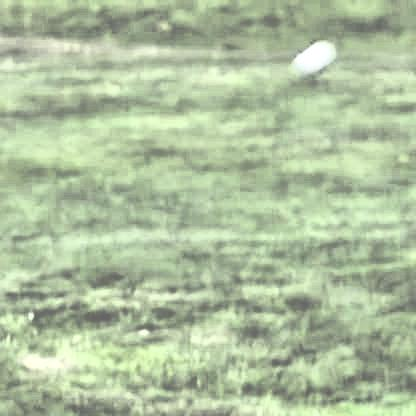golfball: (293, 41, 335, 78)
